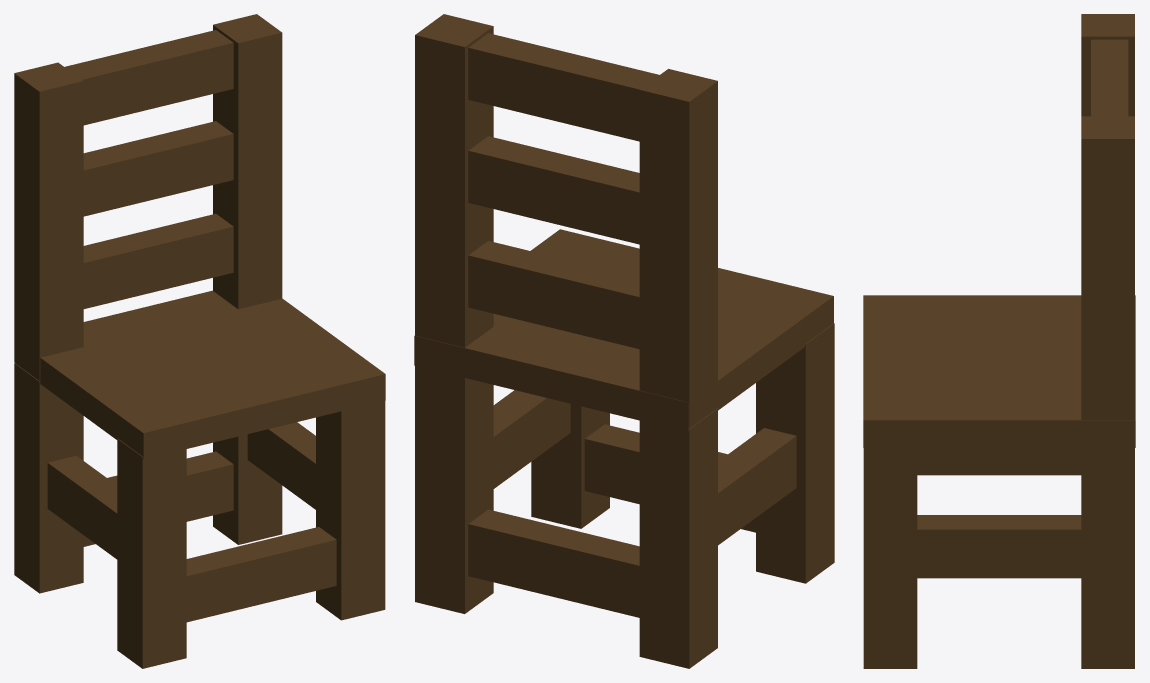
Rendered from 3D chair model.fbx.
The picture shows the model from 3 angles, left to right: view 1: azimuth 30°, elevation 25°; view 2: azimuth 150°, elevation 25°; view 3: azimuth 270°, elevation 25°; orthographic projection. The views are drawn at different scales.
Visible parts, largest first — view 1: pCube15; view 2: pCube15; view 3: pCube15.
Part boxes in pixels (box(x1,y1,x2,y2)): pCube15: box(14, 14, 385, 668); pCube15: box(414, 14, 834, 668); pCube15: box(863, 14, 1135, 668).
Size of the model in its own units: 5.52 by 10.89 by 5.07.
